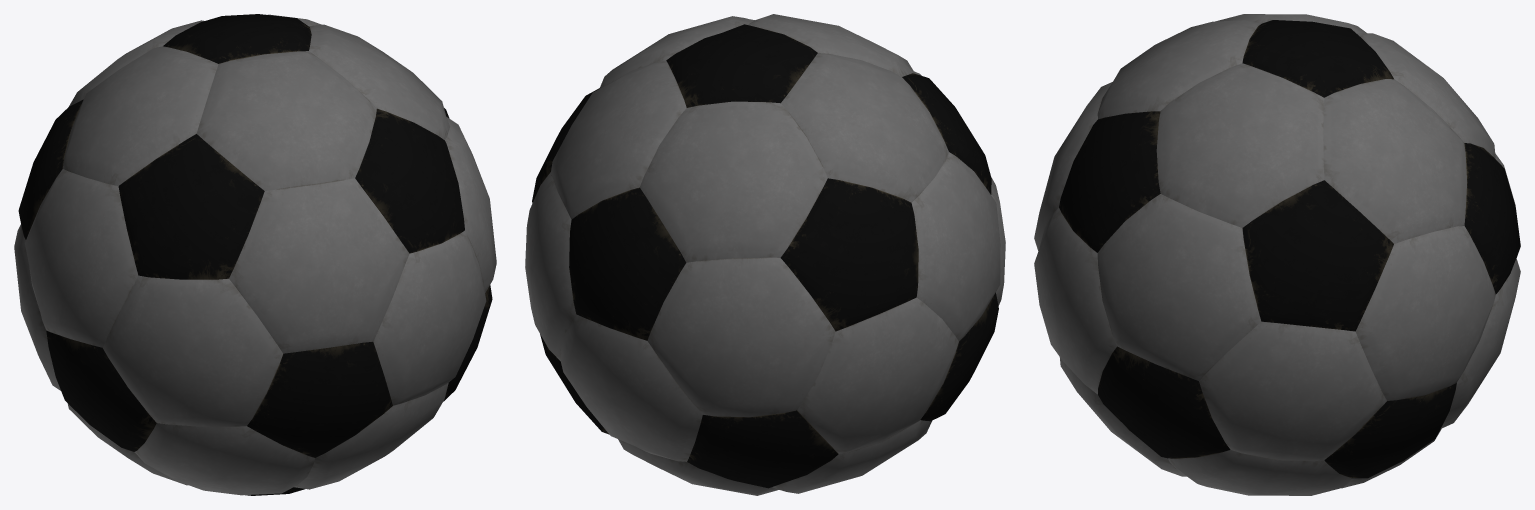
Rendered from soccer_ball.gltf.
3 views of the same model, side by side, from view 1: azimuth 30°, elevation 25°; view 2: azimuth 150°, elevation 25°; view 3: azimuth 270°, elevation 25° (orthographic).
Visible parts, largest first — view 1: soccer_ball; view 2: soccer_ball; view 3: soccer_ball.
Boxes of the visible parts, x1,y1,x2,y2 form: soccer_ball: (14, 14, 496, 495); soccer_ball: (525, 14, 1005, 495); soccer_ball: (1034, 14, 1520, 495).
Size of the model in its own units: 13.69 by 13.78 by 13.77.
